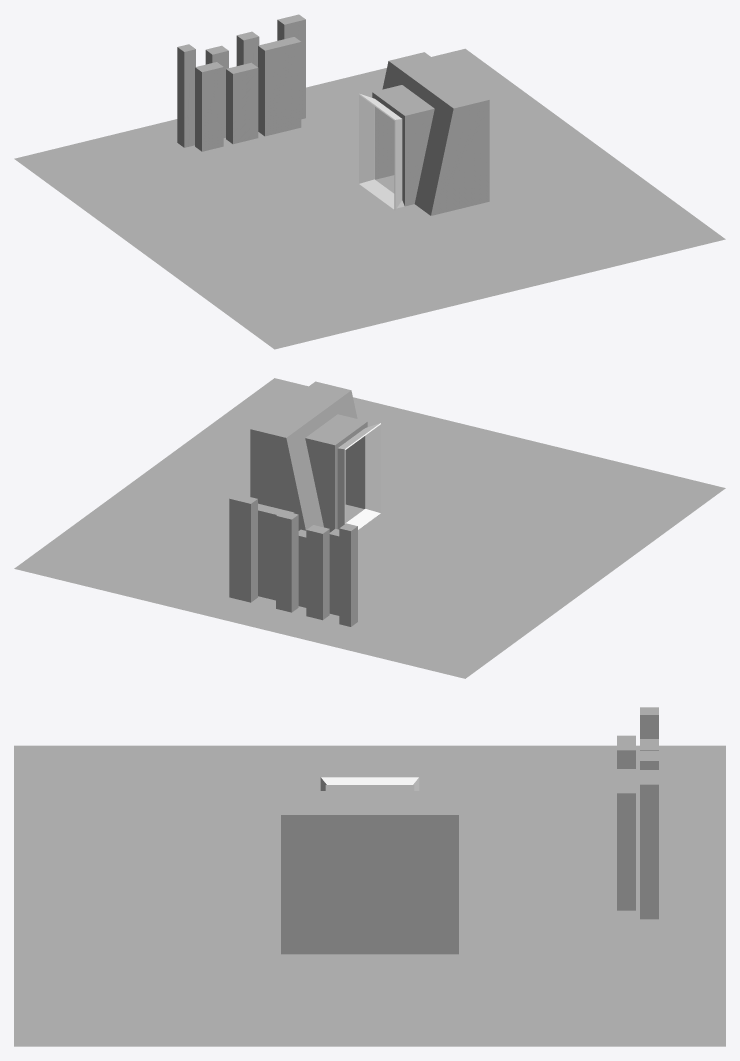
Rendered from Escena Main Menu.fbx.
The picture shows the model from 3 angles, top to bottom: view 1: azimuth 30°, elevation 25°; view 2: azimuth 150°, elevation 25°; view 3: azimuth 270°, elevation 25°; orthographic projection. The views are drawn at different scales.
Visible parts, largest first — view 1: Plano, Edificio, pCube8, Luz_Falsa, pCube7, pCube6, pCube2, pCube5, pCube4, pCube3; view 2: Plano, Edificio, pCube5, Luz_Falsa, pCube4, pCube3, pCube2, pCube8, pCube6, pCube7; view 3: Plano, Edificio, pCube5, pCube8, Luz_Falsa, pCube6, pCube2.
Part boxes in pixels (x1,y1,x2,y2): Plano: (14,48,725,349); Edificio: (372,52,489,215); pCube8: (258,37,301,136); Luz_Falsa: (359,93,402,210); pCube7: (226,62,258,144); pCube6: (195,62,223,151); pCube2: (177,44,195,147); pCube5: (277,14,305,119); pCube4: (236,31,259,67); pCube3: (205,45,228,137); Plano: (14,378,725,678); Edificio: (250,381,367,532); pCube5: (229,493,257,602); Luz_Falsa: (337,423,380,529); pCube4: (276,511,298,612); pCube3: (306,525,329,620); pCube2: (339,523,357,626); pCube8: (258,503,294,600); pCube6: (329,529,339,615); pCube7: (298,529,306,607); Plano: (14,745,725,1046); Edificio: (281,785,458,954); pCube5: (640,770,658,919); pCube8: (617,769,635,910); Luz_Falsa: (320,777,419,790); pCube6: (617,735,635,768); pCube2: (640,707,658,738).
Size of the model in its own units: 100 by 21.66 by 100.
